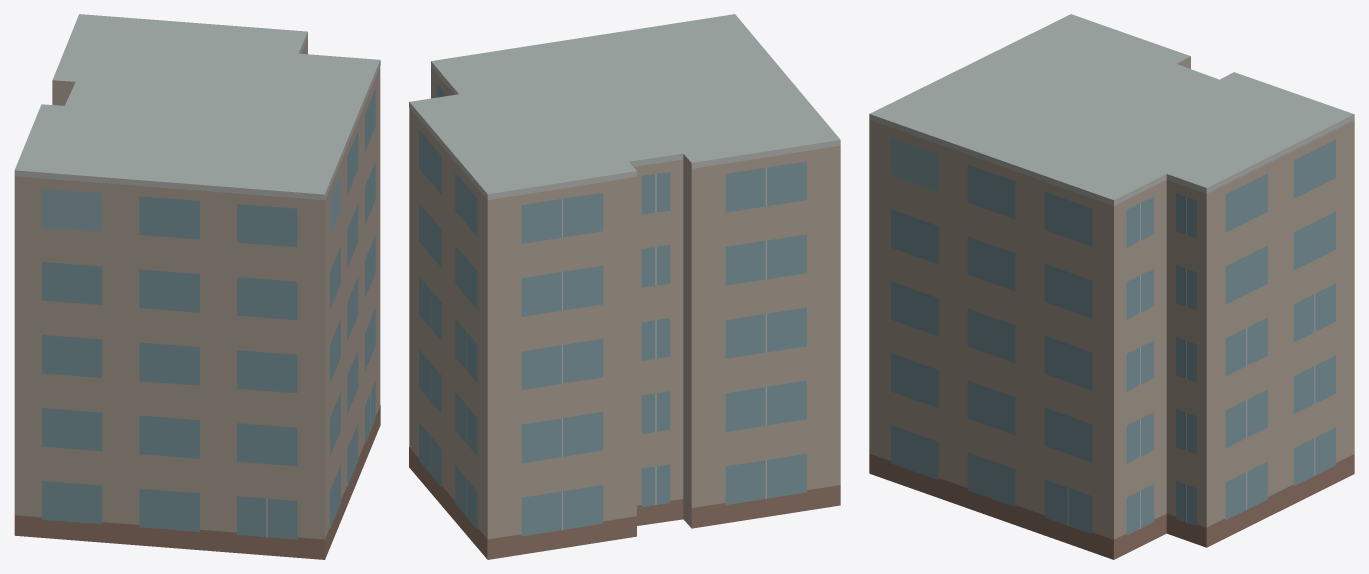
Rendered from survey-upis-32679202.glb.
3 renders of one model, left to right at view 1: azimuth 30°, elevation 25°; view 2: azimuth 150°, elevation 25°; view 3: azimuth 270°, elevation 25°, orthographic.
Visible parts, largest first — view 1: survey-upis-32679202.tmp; view 2: survey-upis-32679202.tmp; view 3: survey-upis-32679202.tmp.
Boxes of the visible parts, x1,y1,x2,y2 form: survey-upis-32679202.tmp: (14, 14, 380, 559); survey-upis-32679202.tmp: (409, 14, 840, 559); survey-upis-32679202.tmp: (869, 14, 1354, 559).
Bounding box in the file's own units: 16.95 × 15.25 × 18.65.
